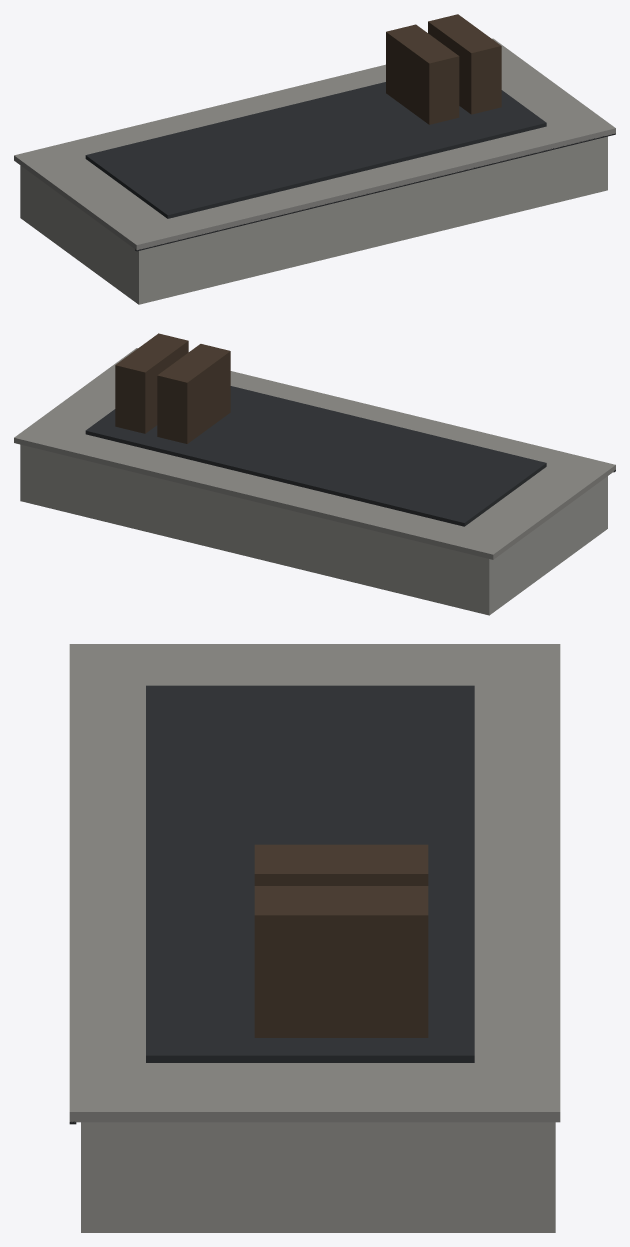
3 renders of one model, top to bottom at view 1: azimuth 30°, elevation 25°; view 2: azimuth 150°, elevation 25°; view 3: azimuth 270°, elevation 25°, orthographic. The views are drawn at different scales.
Parts seen in each view (by area): view 1: root; view 2: root; view 3: root.
Boxes of the visible parts, <box> form: root: <box>14,14,615,304</box>; root: <box>14,333,615,615</box>; root: <box>69,644,560,1232</box>.
Bounding box in the file's own units: 1.46 × 0.3719 × 0.6462.
